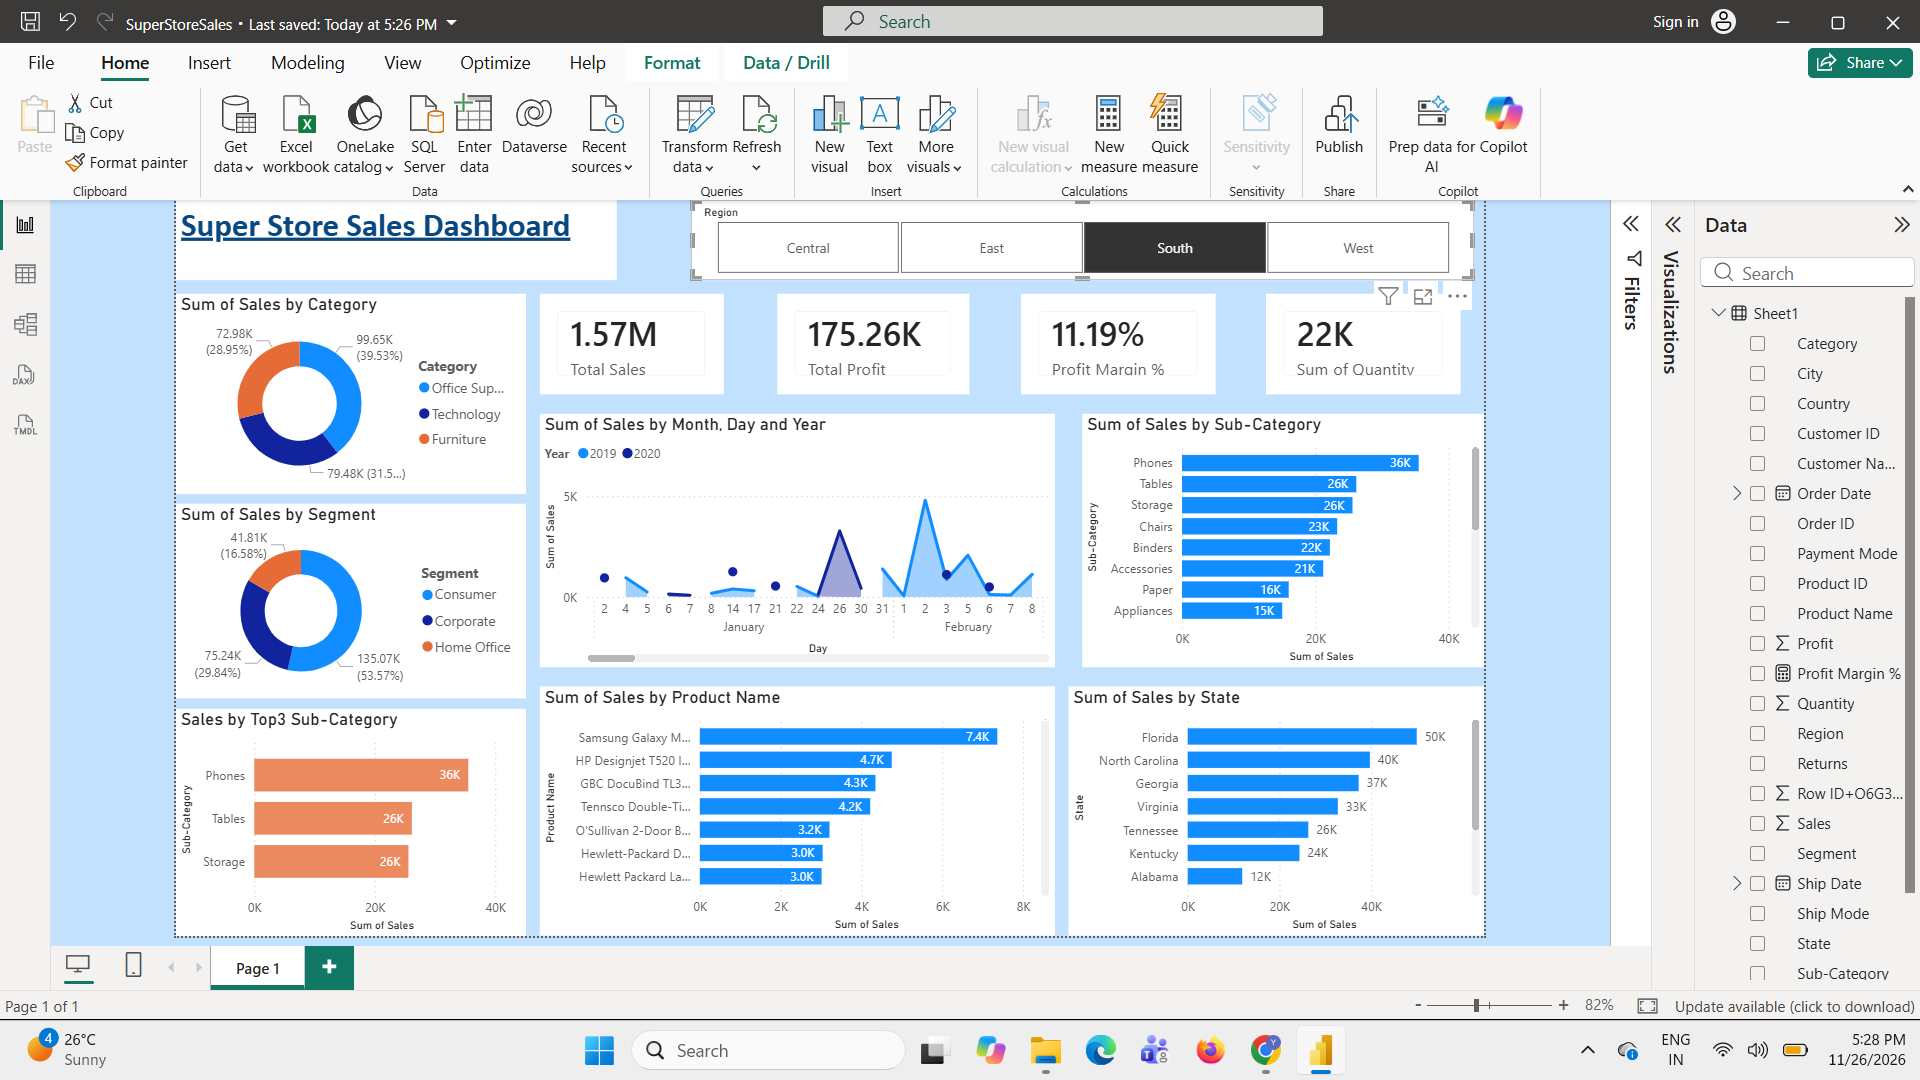

This screenshot's page, from the dashboard's own definition file:
{"tool":"powerbi","page":{"name":"Page 1","canvas":[1280,720],"ordinal":0},"visuals":[{"type":"barChart","fields":{"Y":["Sum(SuperStore_Sales_Dataset.Sales)"],"Category":["SuperStore_Sales_Dataset.Sub-Category"]},"box":[886.5,208.6,393.8,248.4],"z":0},{"type":"barChart","title":"Sales by Top3 Sub-Category","fields":{"Y":["Sum(SuperStore_Sales_Dataset.Sales)"],"Category":["SuperStore_Sales_Dataset.Sub-Category"]},"box":[0,497.5,342,223.1],"z":1000},{"type":"stackedAreaChart","fields":{"Y":["Sum(SuperStore_Sales_Dataset.Sales)"],"Series":["SuperStore_Sales_Dataset.Order Date.Variation.Date Hierarchy.Year"],"Category":["SuperStore_Sales_Dataset.Order Date.Variation.Date Hierarchy.Month","SuperStore_Sales_Dataset.Order Date.Variation.Date Hierarchy.Day"]},"box":[355.4,208.6,503.6,248.4],"z":2000},{"type":"donutChart","fields":{"Category":["SuperStore_Sales_Dataset.Segment"],"Y":["Sum(SuperStore_Sales_Dataset.Sales)"]},"box":[0,297.4,342,190.6],"z":3000},{"type":"slicer","fields":{"Values":["SuperStore_Sales_Dataset.Region"]},"box":[503.6,0,765.7,78.2],"z":4000},{"type":"textbox","box":[0,0,430.9,78.2],"z":5000},{"type":"barChart","fields":{"Y":["Sum(SuperStore_Sales_Dataset.Sales)"],"Category":["SuperStore_Sales_Dataset.State"]},"box":[872.7,476.2,407.5,244.3],"z":6000},{"type":"donutChart","fields":{"Y":["Sum(SuperStore_Sales_Dataset.Sales)"],"Category":["SuperStore_Sales_Dataset.Category"]},"box":[0,91.9,342,196],"z":7000},{"type":"barChart","fields":{"Y":["Sum(SuperStore_Sales_Dataset.Sales)"],"Category":["SuperStore_Sales_Dataset.Product Name"]},"box":[355.4,476.2,503.6,244.3],"z":8000},{"type":"cardVisual","fields":{"Data":["Sheet1.Total Sales"]},"box":[355.6,91.9,179.8,98.7],"z":9000},{"type":"cardVisual","fields":{"Data":["Sheet1.Total Profit"]},"box":[588.1,91.9,187.9,98.7],"z":10000},{"type":"cardVisual","fields":{"Data":["Sheet1.Profit Margin %"]},"box":[826,91.9,190.6,98.7],"z":11000},{"type":"cardVisual","fields":{"Data":["Sum(Sheet1.Quantity)"]},"box":[1066.7,91.9,190.6,98.7],"z":11001}]}

Visuals, with their boxes on the page's 1280x720 design canvas (x1, y1, x2, y2). These are canvas units, not pixel positions in the 1920x1080 screenshot, which may show the page scaled, cropped or inside an application window:
barChart - Sum(SuperStore_Sales_Dataset.Sales) x SuperStore_Sales_Dataset.Sub-Category: (886, 209, 1280, 457)
"Sales by Top3 Sub-Category" barChart: (0, 498, 342, 721)
stackedAreaChart - Sum(SuperStore_Sales_Dataset.Sales) x SuperStore_Sales_Dataset.Order Date.Variation.Date Hierarchy.Year: (355, 209, 859, 457)
donutChart - SuperStore_Sales_Dataset.Segment x Sum(SuperStore_Sales_Dataset.Sales): (0, 297, 342, 488)
slicer - SuperStore_Sales_Dataset.Region: (504, 0, 1269, 78)
textbox: (0, 0, 431, 78)
barChart - Sum(SuperStore_Sales_Dataset.Sales) x SuperStore_Sales_Dataset.State: (873, 476, 1280, 720)
donutChart - Sum(SuperStore_Sales_Dataset.Sales) x SuperStore_Sales_Dataset.Category: (0, 92, 342, 288)
barChart - Sum(SuperStore_Sales_Dataset.Sales) x SuperStore_Sales_Dataset.Product Name: (355, 476, 859, 720)
cardVisual - Sheet1.Total Sales: (356, 92, 535, 191)
cardVisual - Sheet1.Total Profit: (588, 92, 776, 191)
cardVisual - Sheet1.Profit Margin %: (826, 92, 1017, 191)
cardVisual - Sum(Sheet1.Quantity): (1067, 92, 1257, 191)
